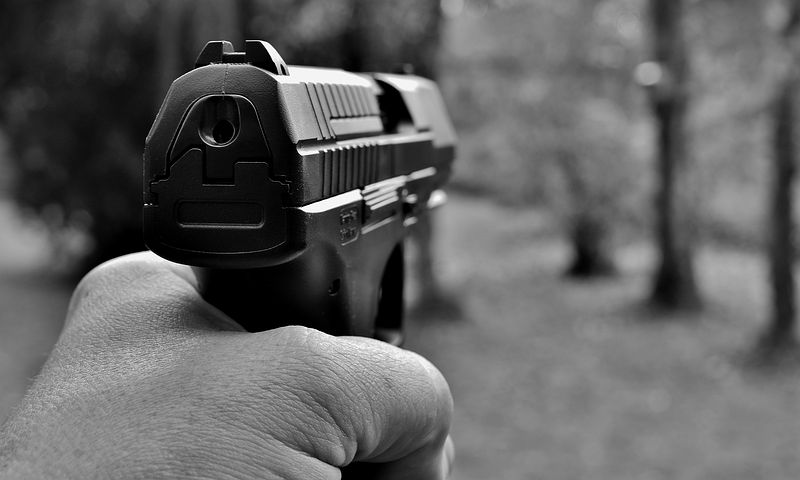gun: (120, 22, 493, 360)
